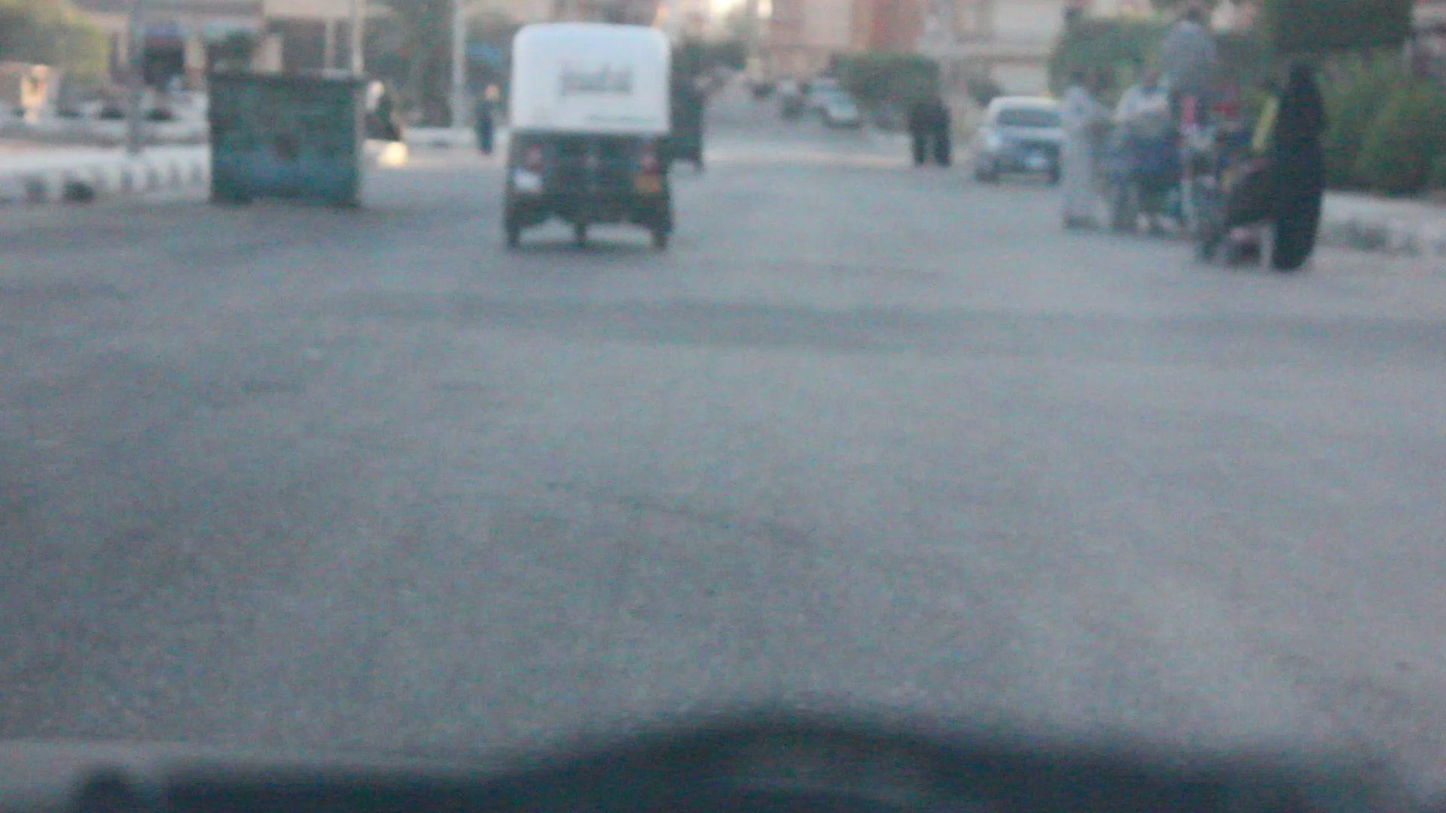Bump: (441, 288, 1446, 371)
